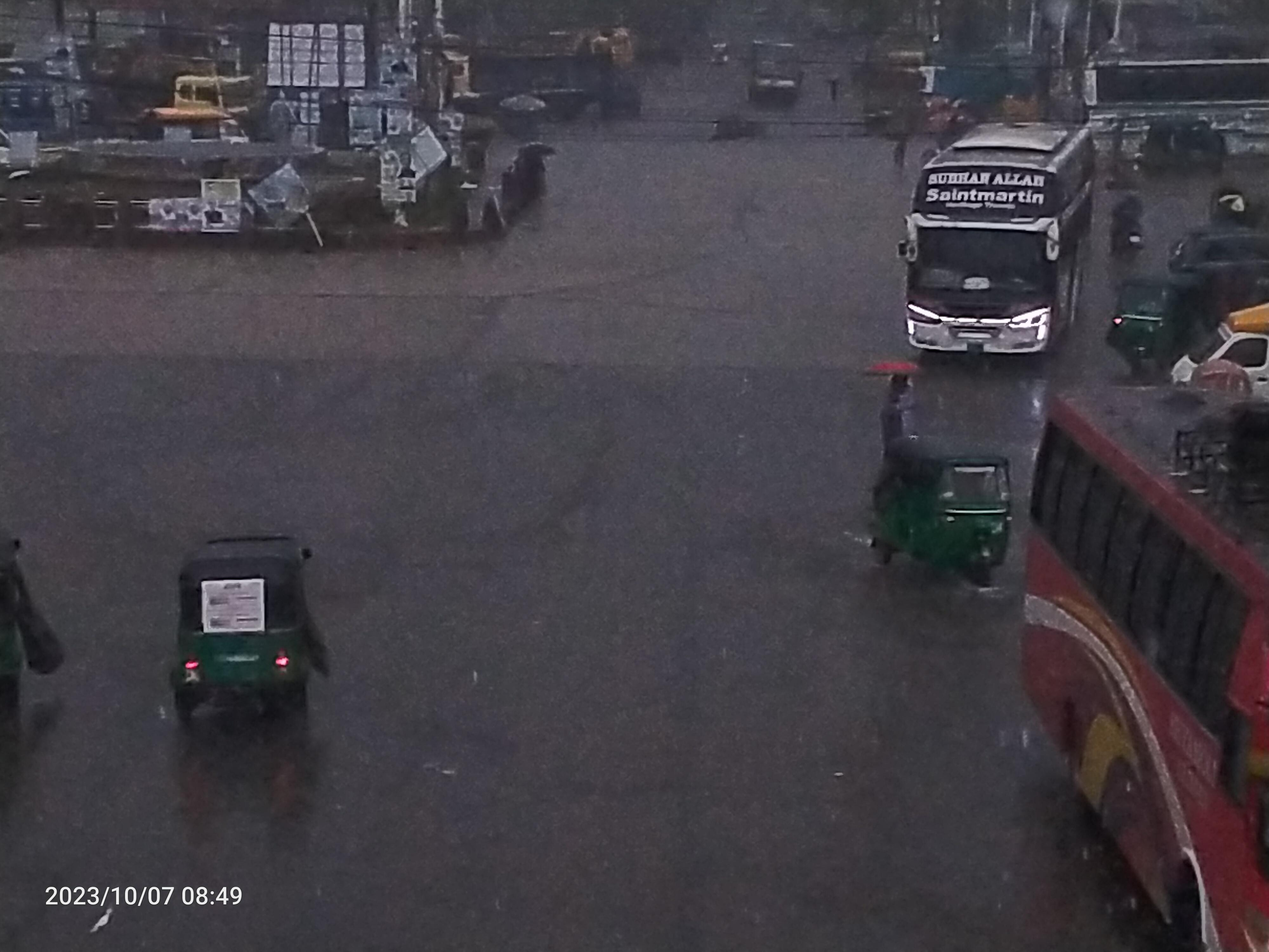Bus: (993, 343, 1269, 952), (890, 90, 1117, 385), (1063, 30, 1269, 192), (720, 21, 828, 115)
Truck: (428, 29, 627, 124), (103, 56, 266, 122)
